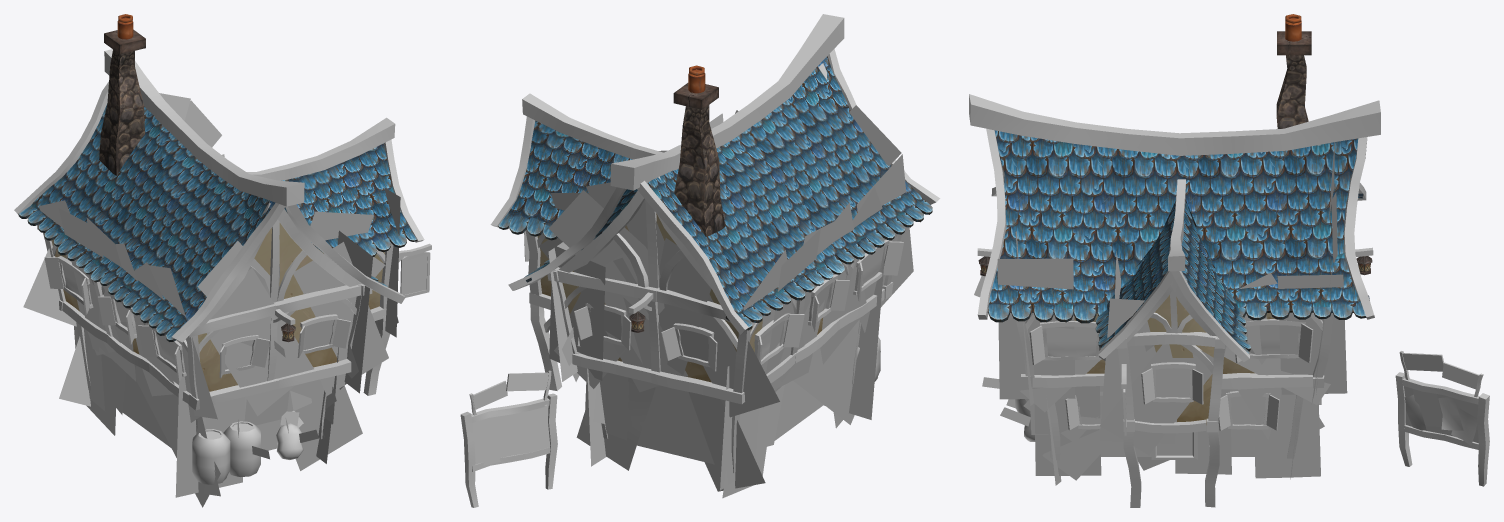
File: finished with assets.fbx
3 views of the same model, side by side, from view 1: azimuth 30°, elevation 25°; view 2: azimuth 150°, elevation 25°; view 3: azimuth 270°, elevation 25° (orthographic). The views are drawn at different scales.
Visible parts, largest first — view 1: Object003; view 2: Object003; view 3: Object003.
Part boxes in pixels (<box>): Object003: <box>14,14,431,507</box>; Object003: <box>460,14,940,507</box>; Object003: <box>969,14,1489,507</box>.
Bounding box in the file's own units: 1465 × 1777 × 1912.
